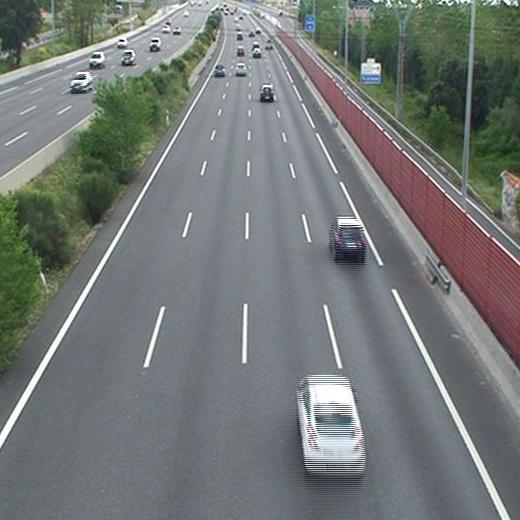car: (297, 377, 364, 474), (330, 218, 366, 256), (261, 85, 274, 100), (234, 63, 246, 75), (214, 65, 226, 77), (236, 45, 245, 55), (253, 48, 261, 58)
